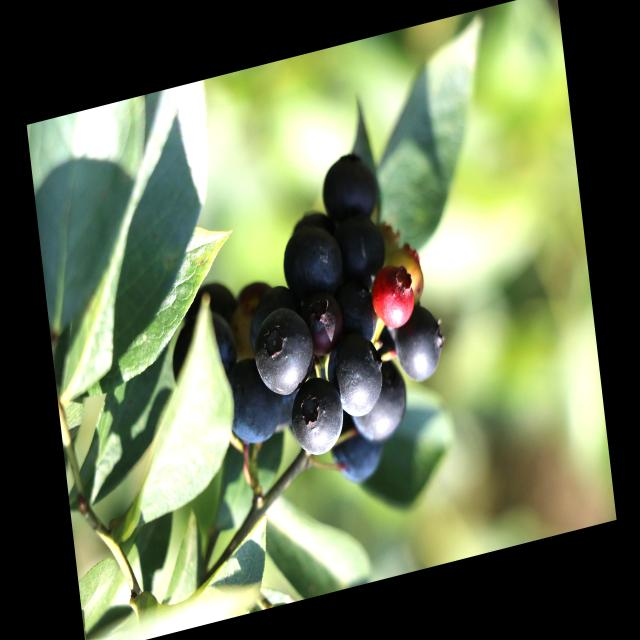blueberry: (246, 299, 320, 407), (317, 324, 391, 430), (216, 354, 287, 454), (169, 307, 240, 400), (283, 375, 347, 465), (279, 217, 342, 306), (318, 149, 381, 235), (321, 424, 385, 504), (351, 362, 410, 446), (393, 301, 446, 387), (332, 212, 390, 289), (333, 277, 387, 351), (305, 290, 344, 361)
blueberry-halfripe: (370, 265, 418, 332)
